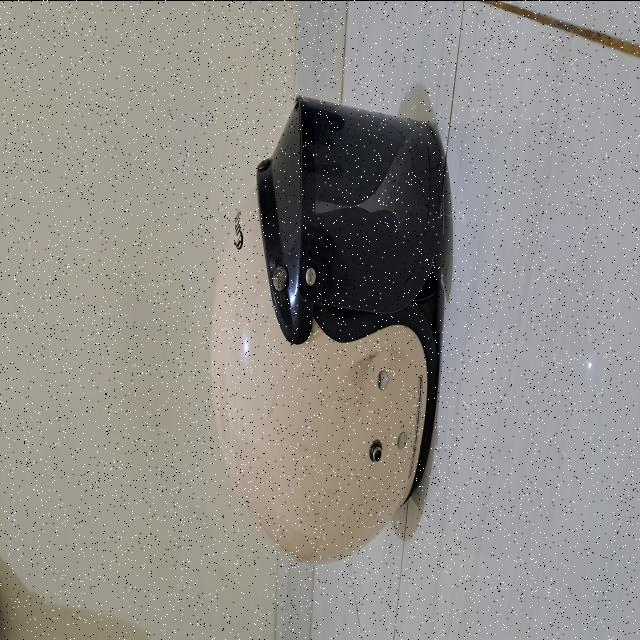Helmet: (211, 98, 442, 564)
